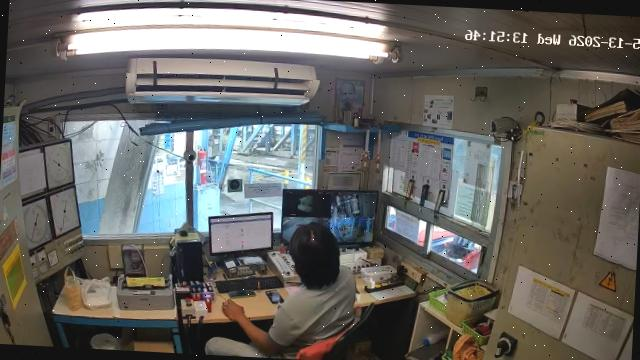Head: (290, 224, 340, 289)
People: (205, 225, 355, 359)
Phone: (228, 288, 255, 300), (265, 290, 282, 303)
